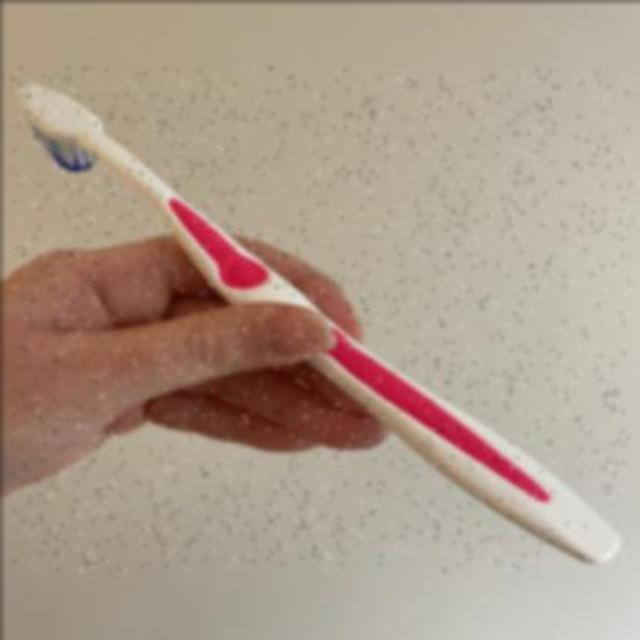toothbrush: (11, 67, 629, 571)
